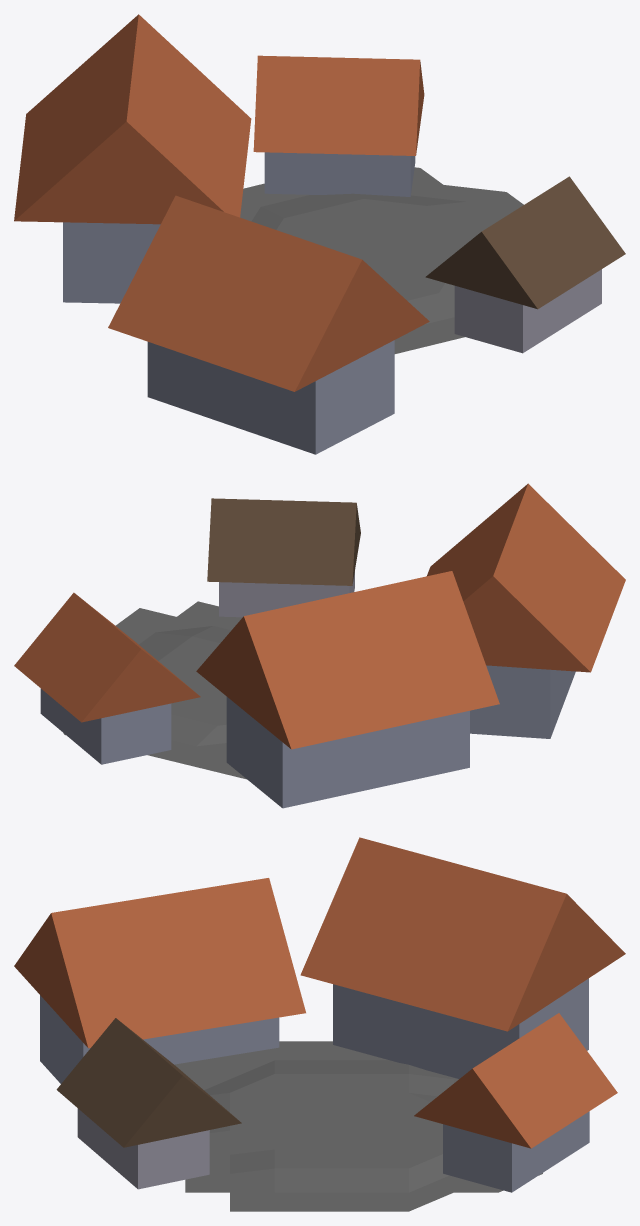
The model's file is building6.dae.
3 views of the same model, one above another, from view 1: azimuth 30°, elevation 25°; view 2: azimuth 150°, elevation 25°; view 3: azimuth 270°, elevation 25° (orthographic). The views are drawn at different scales.
Parts seen in each view (by area): view 1: Cube_131; view 2: Cube_131; view 3: Cube_131.
Boxes of the visible parts, bbox=[...] form: Cube_131: bbox=[14, 14, 625, 454]; Cube_131: bbox=[14, 483, 625, 808]; Cube_131: bbox=[14, 837, 625, 1211].
Bounding box in the file's own units: 1.21 × 1.34 × 0.5141.
